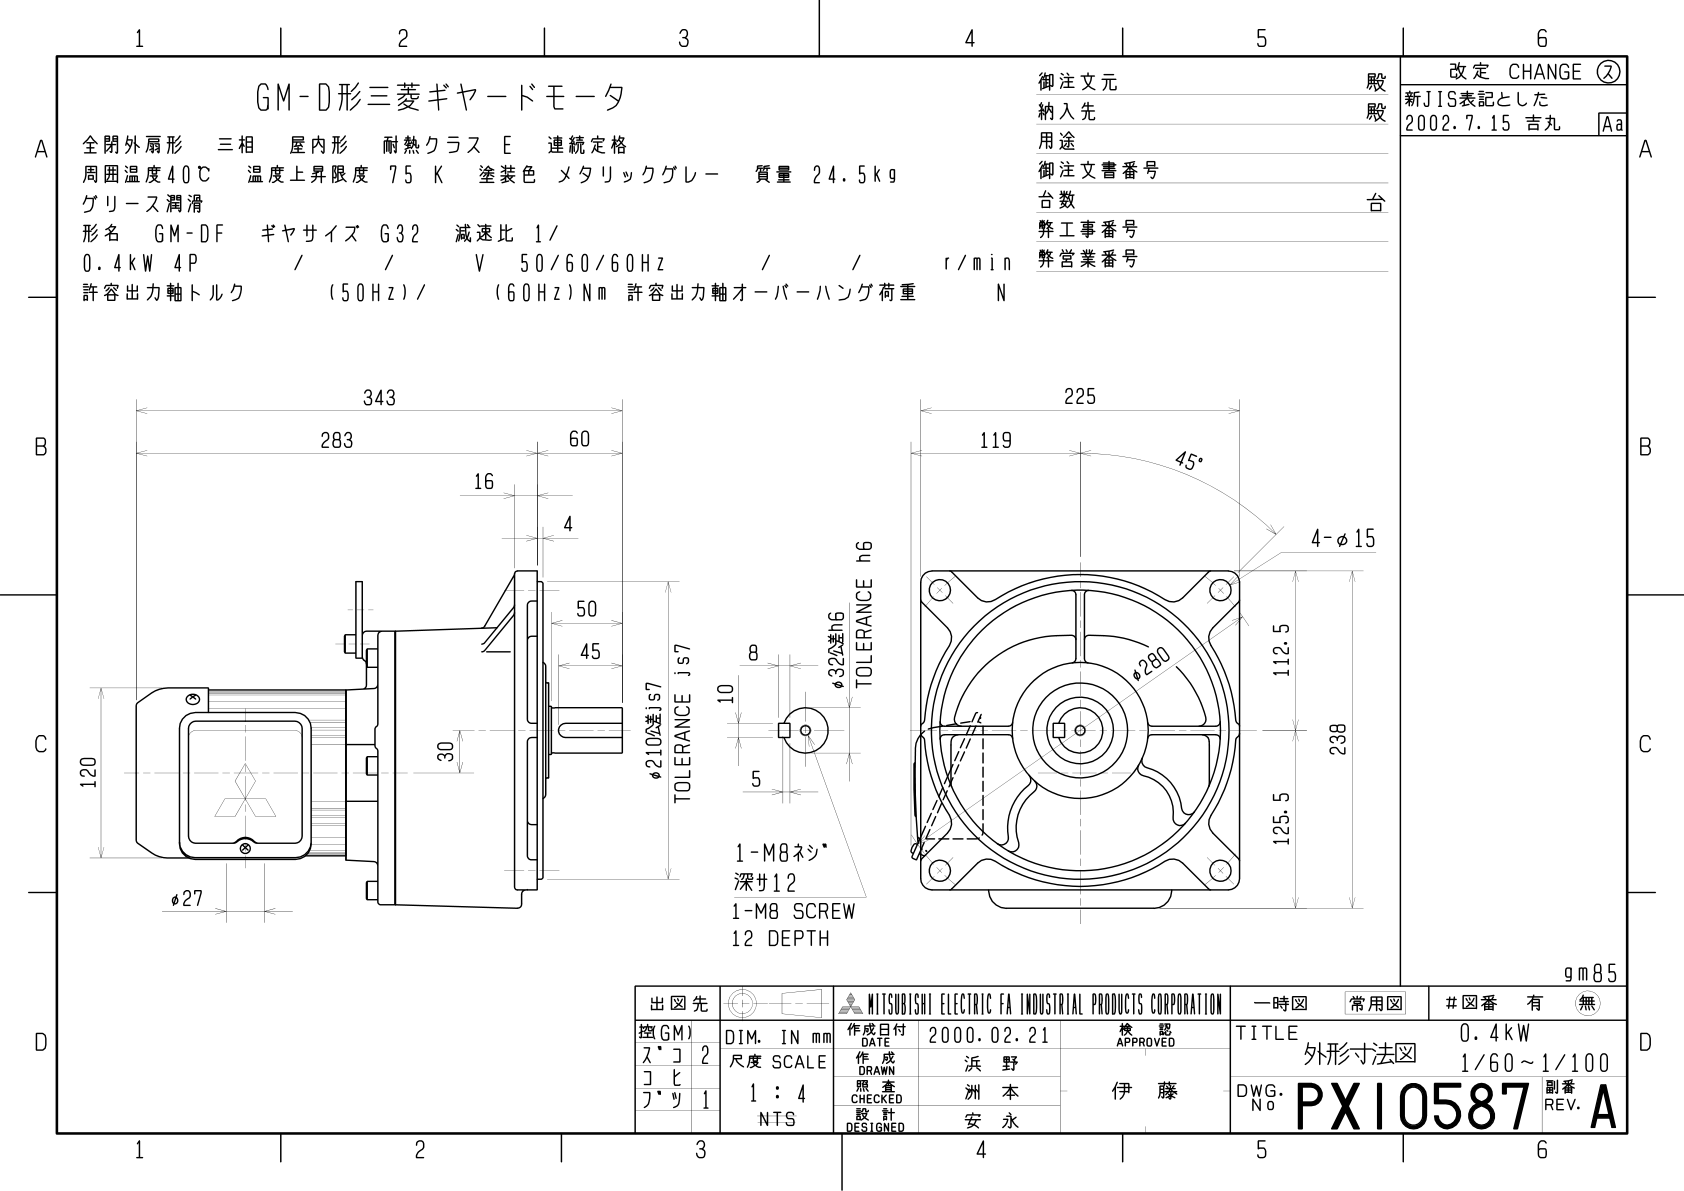GM_D_屋内＿三相_フランジ: (1, 1, 1674, 1173)
